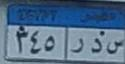3: (15, 31, 29, 53)
4: (30, 29, 42, 56)
5: (43, 35, 56, 54)
daal: (88, 37, 103, 55)
raa: (71, 37, 84, 56)
seen: (106, 38, 124, 56)
